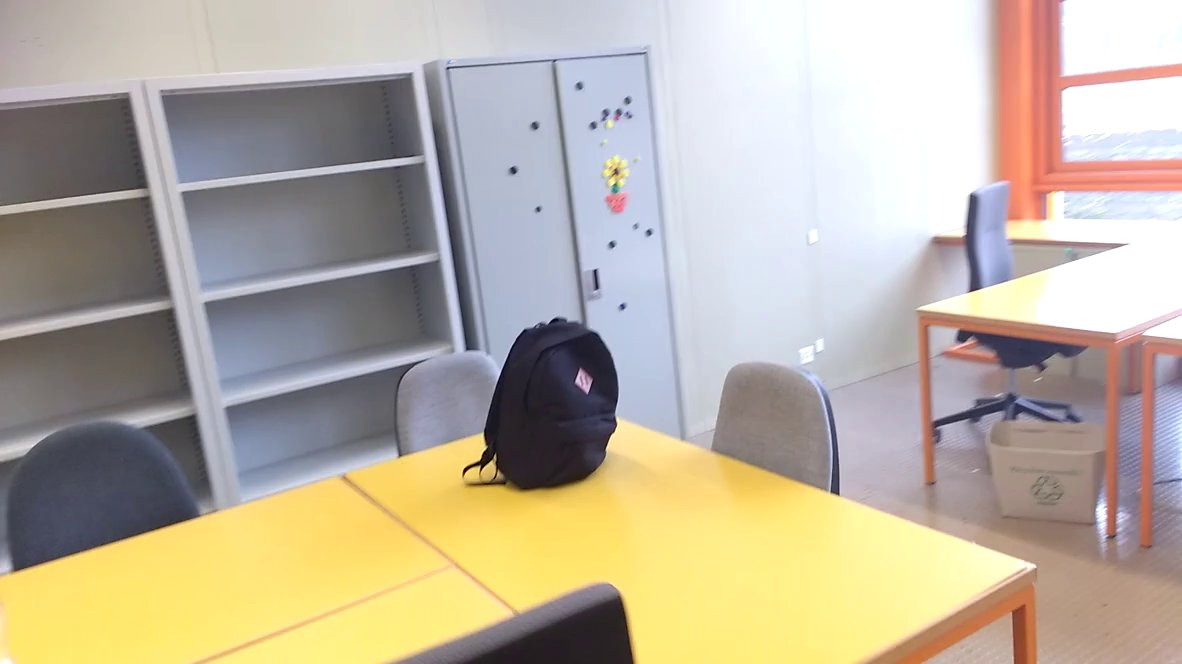bag: (456, 308, 631, 497)
box: (970, 411, 1116, 534)
chair: (918, 173, 1084, 460), (3, 406, 218, 579), (695, 348, 859, 517), (385, 344, 524, 467)
